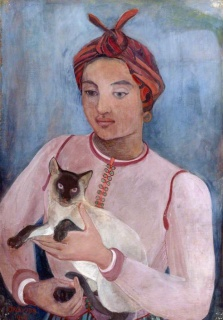Cat: (5, 154, 149, 319)
